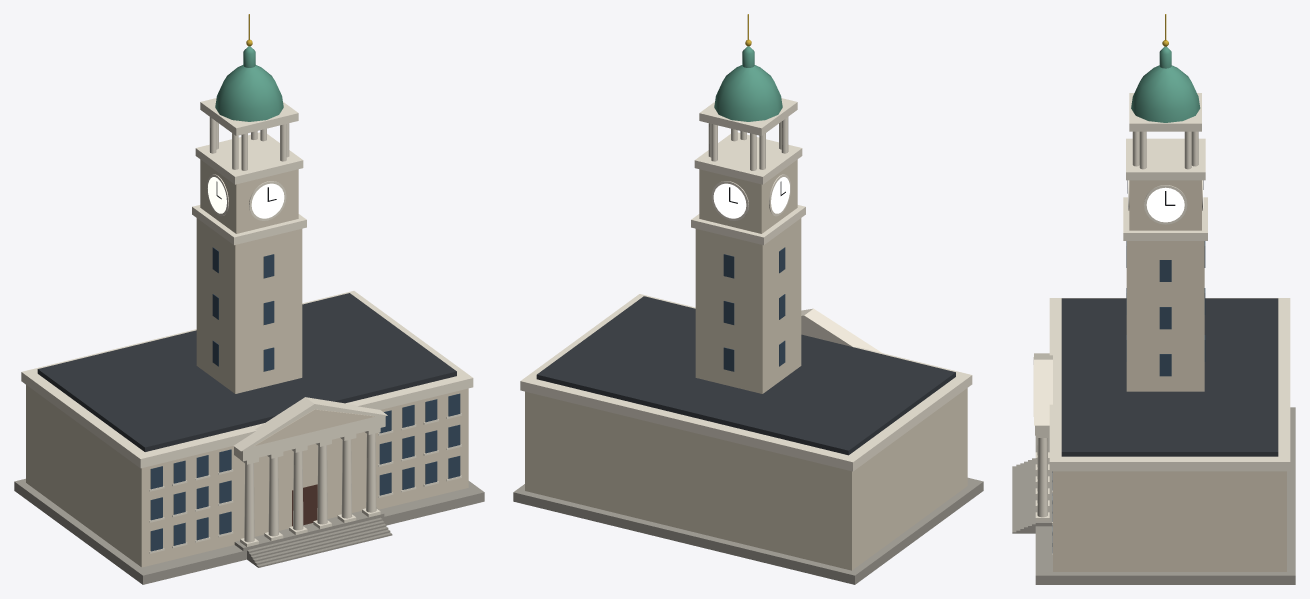
The model's file is city_hall.glb.
3 views of the same model, side by side, from view 1: azimuth 30°, elevation 25°; view 2: azimuth 150°, elevation 25°; view 3: azimuth 270°, elevation 25° (orthographic).
Parts seen in each view (by area): view 1: city_hall; view 2: city_hall; view 3: city_hall.
Part boxes in pixels (box(x1,y1,x2,y2)): city_hall: box(14, 14, 484, 584); city_hall: box(513, 14, 983, 584); city_hall: box(1012, 14, 1295, 584).
Size of the model in its own units: 46 by 62 by 32.7.
